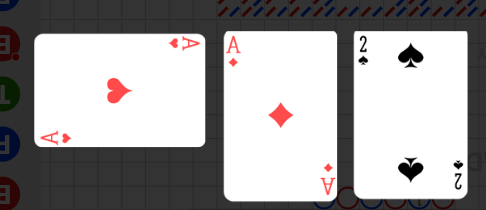2S: (357, 35, 370, 68)
AH: (166, 36, 201, 53), (39, 129, 75, 145)
